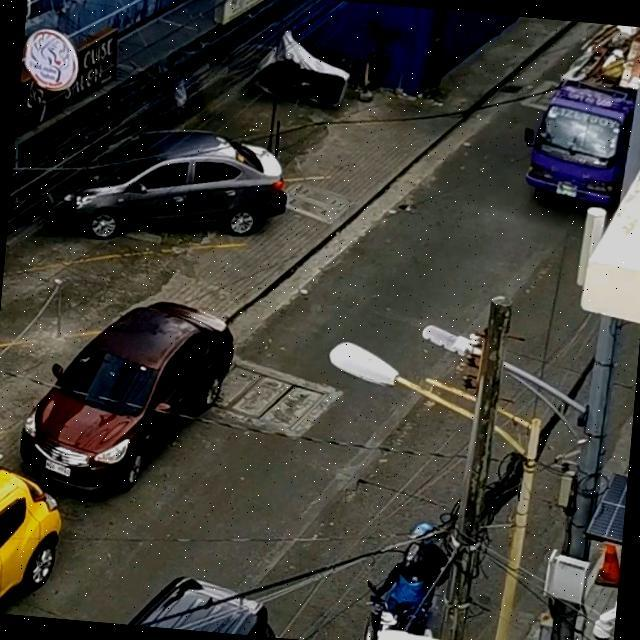Truck: (494, 15, 640, 238)
